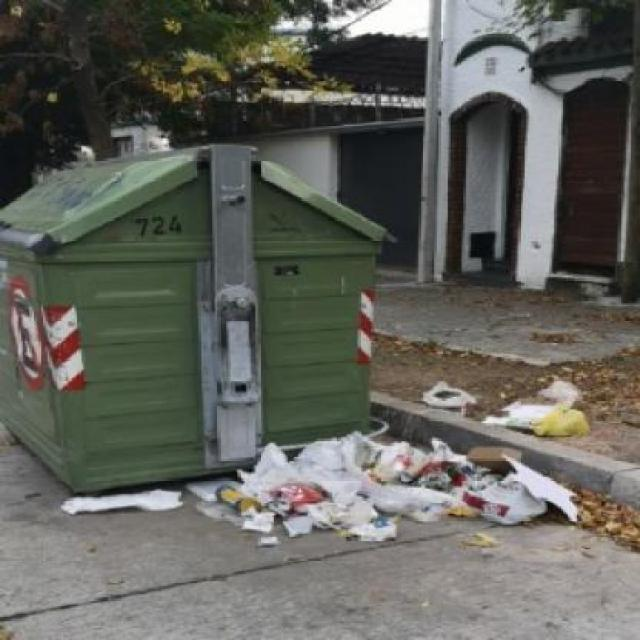garbage: (75, 420, 634, 552), (417, 371, 598, 418)
